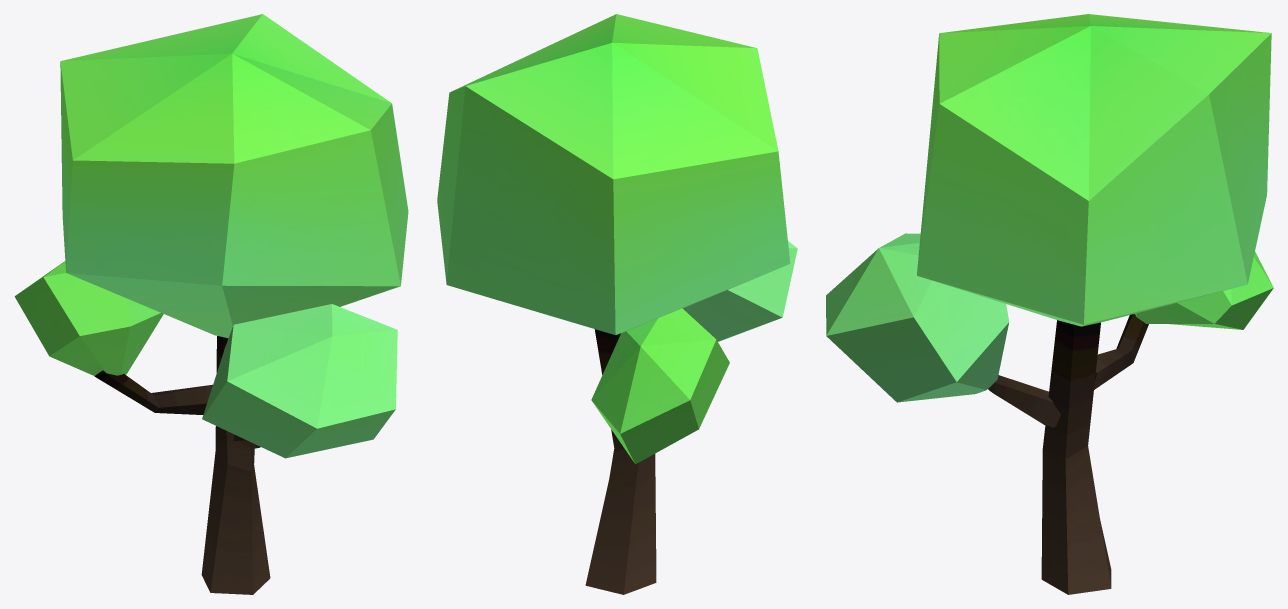
File: tree_1.FBX
3 views of the same model, side by side, from view 1: azimuth 30°, elevation 25°; view 2: azimuth 150°, elevation 25°; view 3: azimuth 270°, elevation 25° (orthographic). The views are drawn at different scales.
Visible parts, largest first — view 1: Sphere001; view 2: Sphere001; view 3: Sphere001.
Part boxes in pixels (<box>): Sphere001: <box>14,14,408,594</box>; Sphere001: <box>437,14,797,594</box>; Sphere001: <box>826,14,1273,594</box>.
Bounding box in the file's own units: 8.28 × 12.1 × 8.85.
Materials: 2 (2 with a texture image).
